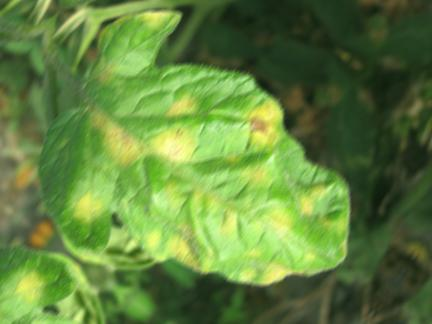Tomato mold leaf: (0, 0, 416, 324)
